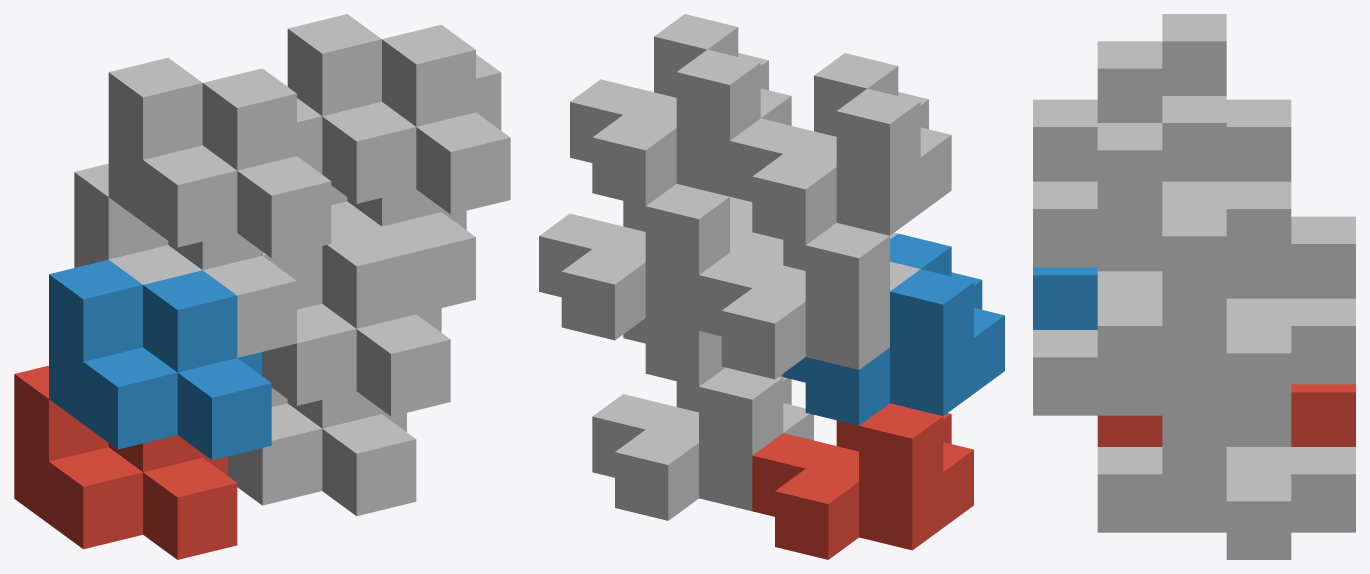
Rendered from tiling.obj.
The picture shows the model from 3 angles, left to right: view 1: azimuth 30°, elevation 25°; view 2: azimuth 150°, elevation 25°; view 3: azimuth 270°, elevation 25°; orthographic projection. The views are drawn at different scales.
Parts seen in each view (by area): view 1: copy_1_domain_4, copy_1_domain_2, copy_1_domain_8, copy_1_domain_1, copy_1_domain_6, copy_1_domain_5, copy_1_domain_3, copy_1_domain_7; view 2: copy_1_domain_4, copy_1_domain_8, copy_1_domain_1, copy_1_domain_3, copy_1_domain_5, copy_1_domain_7, copy_1_domain_2, copy_1_domain_6; view 3: copy_1_domain_8, copy_1_domain_7, copy_1_domain_5, copy_1_domain_4, copy_1_domain_6, copy_1_domain_1, copy_1_domain_3, copy_1_domain_2.
Part boxes in pixels (x1,y1,x2,y2): copy_1_domain_4: (108, 57, 331, 257); copy_1_domain_2: (49, 259, 271, 460); copy_1_domain_8: (287, 14, 510, 214); copy_1_domain_1: (14, 365, 237, 559); copy_1_domain_6: (262, 226, 450, 416); copy_1_domain_5: (228, 388, 416, 516); copy_1_domain_3: (74, 163, 296, 357); copy_1_domain_7: (331, 185, 475, 314); copy_1_domain_4: (730, 53, 951, 245); copy_1_domain_8: (570, 14, 791, 206); copy_1_domain_1: (752, 403, 973, 559); copy_1_domain_3: (699, 223, 920, 379); copy_1_domain_5: (592, 367, 813, 520); copy_1_domain_7: (539, 183, 755, 340); copy_1_domain_2: (783, 233, 1004, 425); copy_1_domain_6: (623, 198, 783, 386); copy_1_domain_8: (1033, 96, 1291, 294); copy_1_domain_7: (1097, 267, 1355, 411); copy_1_domain_5: (1097, 415, 1355, 559); copy_1_domain_4: (1033, 14, 1291, 181); copy_1_domain_6: (1033, 271, 1291, 442); copy_1_domain_1: (1097, 384, 1355, 446); copy_1_domain_3: (1097, 216, 1355, 298); copy_1_domain_2: (1033, 267, 1097, 329).
Size of the model in its own units: 7 by 7 by 5.
